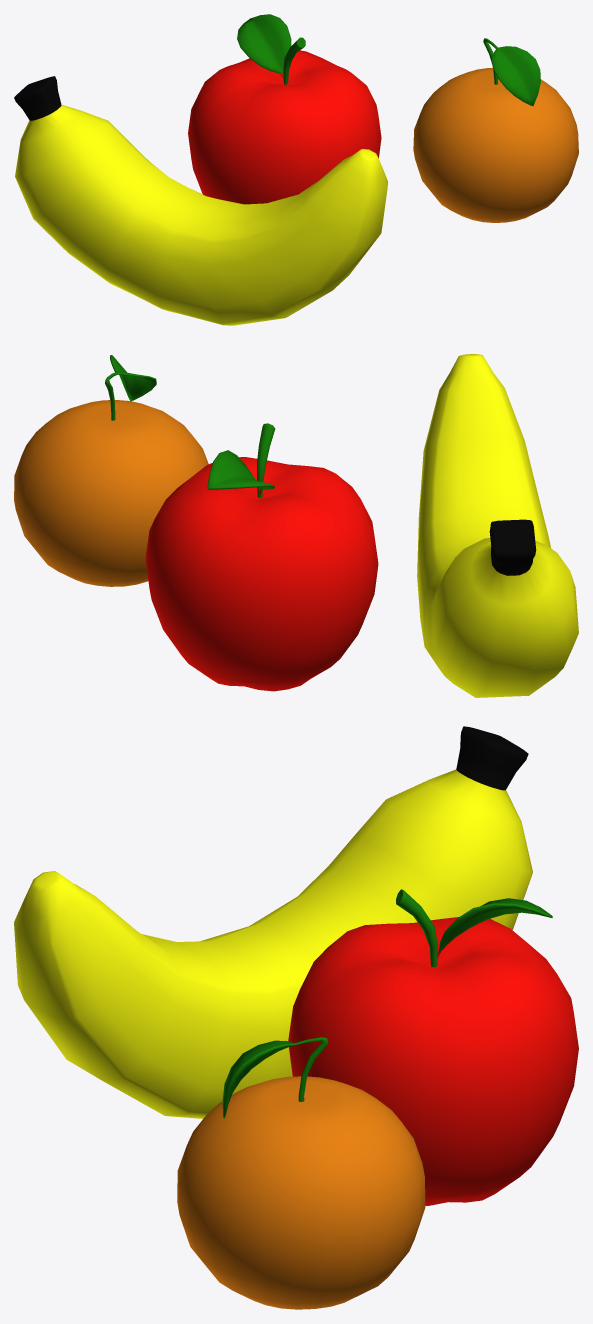
Rendered from fruits.gltf.glb.
The picture shows the model from 3 angles, top to bottom: view 1: azimuth 30°, elevation 25°; view 2: azimuth 150°, elevation 25°; view 3: azimuth 270°, elevation 25°; orthographic projection. The views are drawn at different scales.
Parts seen in each view (by area): view 1: Banana, Apple, Orange; view 2: Apple, Banana, Orange; view 3: Banana, Apple, Orange.
Part boxes in pixels (x1,y1,x2,y2): Banana: (14, 76, 387, 325); Apple: (188, 14, 381, 204); Orange: (413, 38, 578, 222); Apple: (145, 423, 378, 691); Banana: (417, 354, 578, 697); Orange: (14, 355, 208, 586); Banana: (14, 726, 532, 1118); Apple: (288, 889, 578, 1205); Orange: (177, 1037, 425, 1309).
Size of the model in its own units: 5.22 by 2.05 by 3.41.
